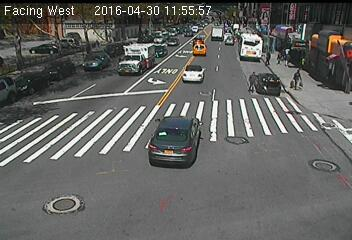neg: (242, 70, 261, 95), (65, 61, 74, 73), (92, 36, 99, 46)
pos: (289, 69, 305, 90), (263, 51, 274, 66), (275, 51, 286, 64)
